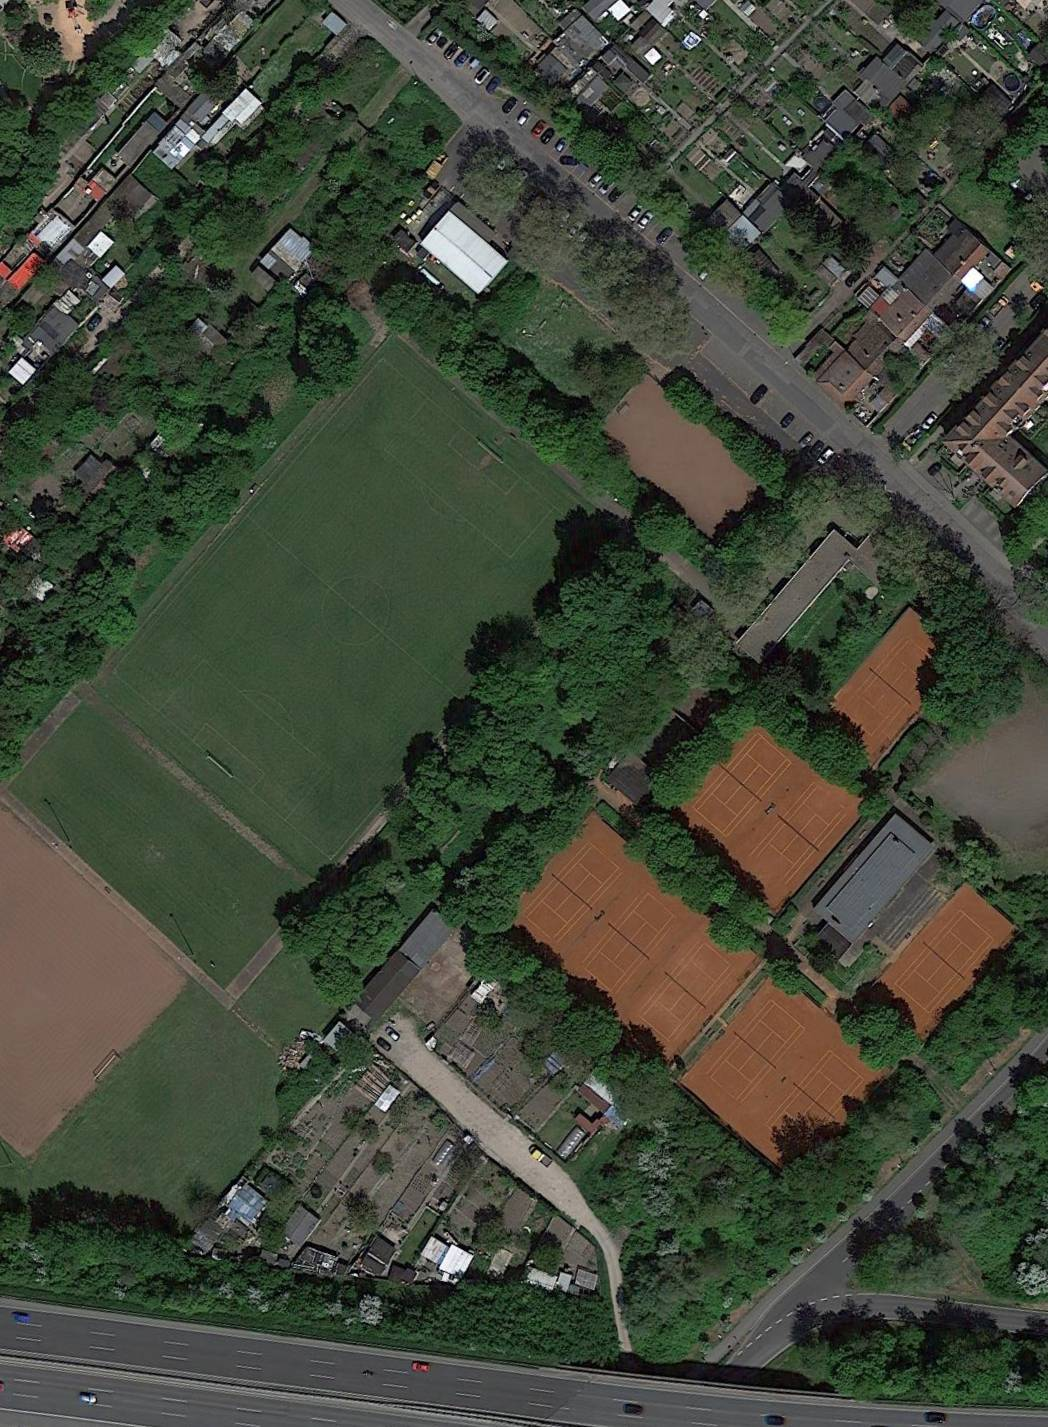soccer ball field: (107, 357, 595, 864), (1, 799, 192, 1162)
tennis court: (892, 909, 996, 1016), (520, 840, 626, 944), (749, 781, 852, 888), (634, 938, 737, 1045), (692, 731, 794, 839), (579, 888, 680, 997), (764, 1048, 866, 1153), (839, 634, 939, 741), (706, 998, 806, 1105)
